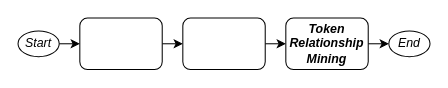
Image size: 448x88. Some labels were removed from this diagram. Each missing label, with the centre of its shape:
Token Extraction: (x=120, y=43)
Token-To-Tag Mapping: (x=223, y=43)
